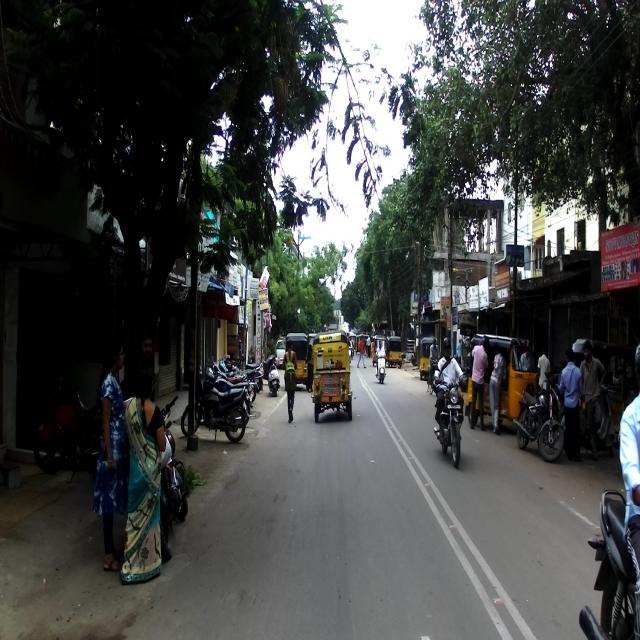autorickshaw: (571, 339, 639, 459), (464, 333, 538, 431), (310, 331, 353, 422)
motorcycle: (114, 391, 190, 561), (33, 377, 113, 482), (180, 364, 251, 443), (512, 371, 566, 460), (431, 362, 471, 468)
scooter: (560, 381, 616, 457), (266, 353, 280, 398), (375, 351, 386, 385)
